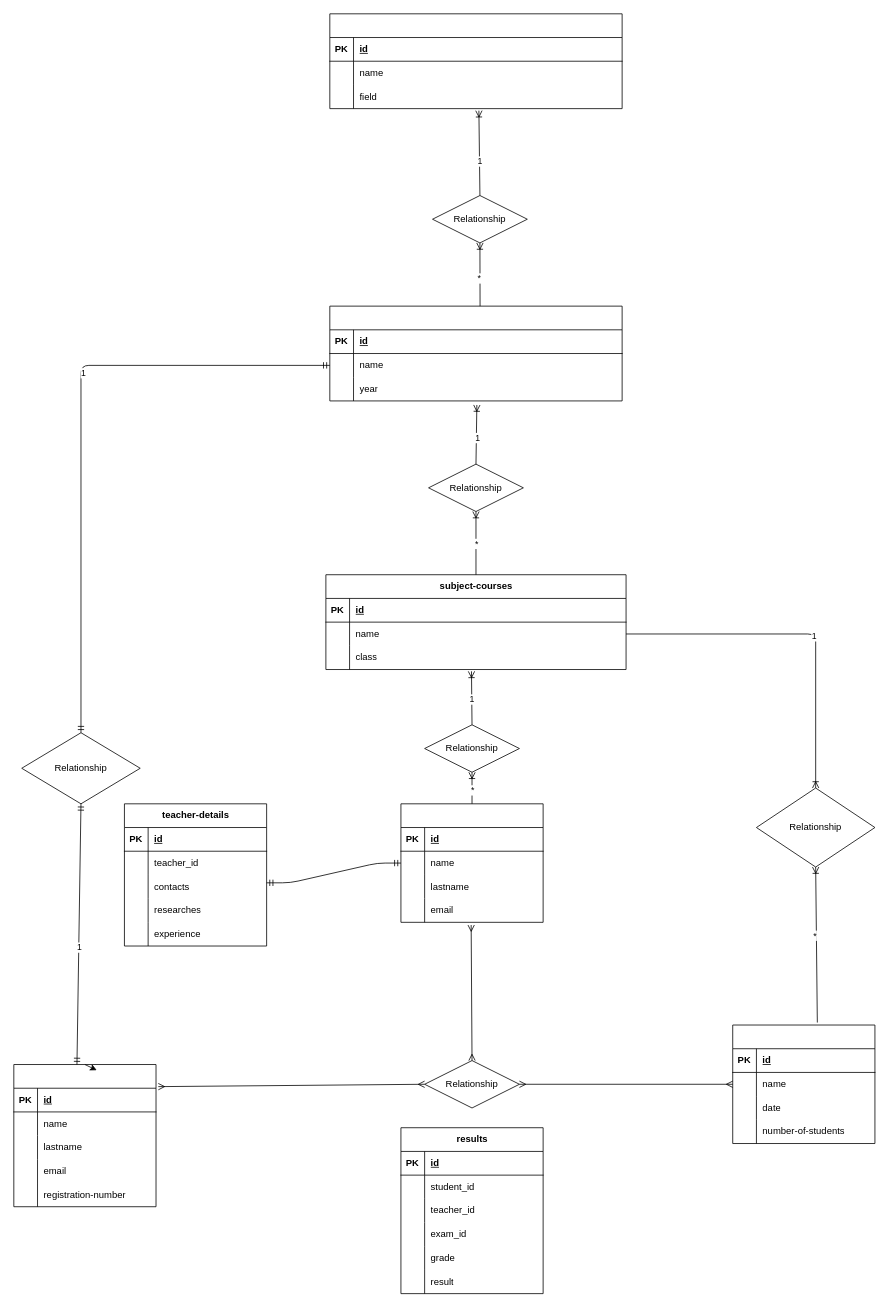
Some shapes in this 889 by 1307 pixel diagram are drawn without their labels. The box of each missing label's shape, as (x1, y1, x2, y2) in pixels:
departments: (329, 13, 622, 109)
exams: (732, 1024, 875, 1144)
students: (13, 1064, 156, 1207)
teachers: (400, 803, 543, 922)
university-courses: (329, 305, 622, 401)
